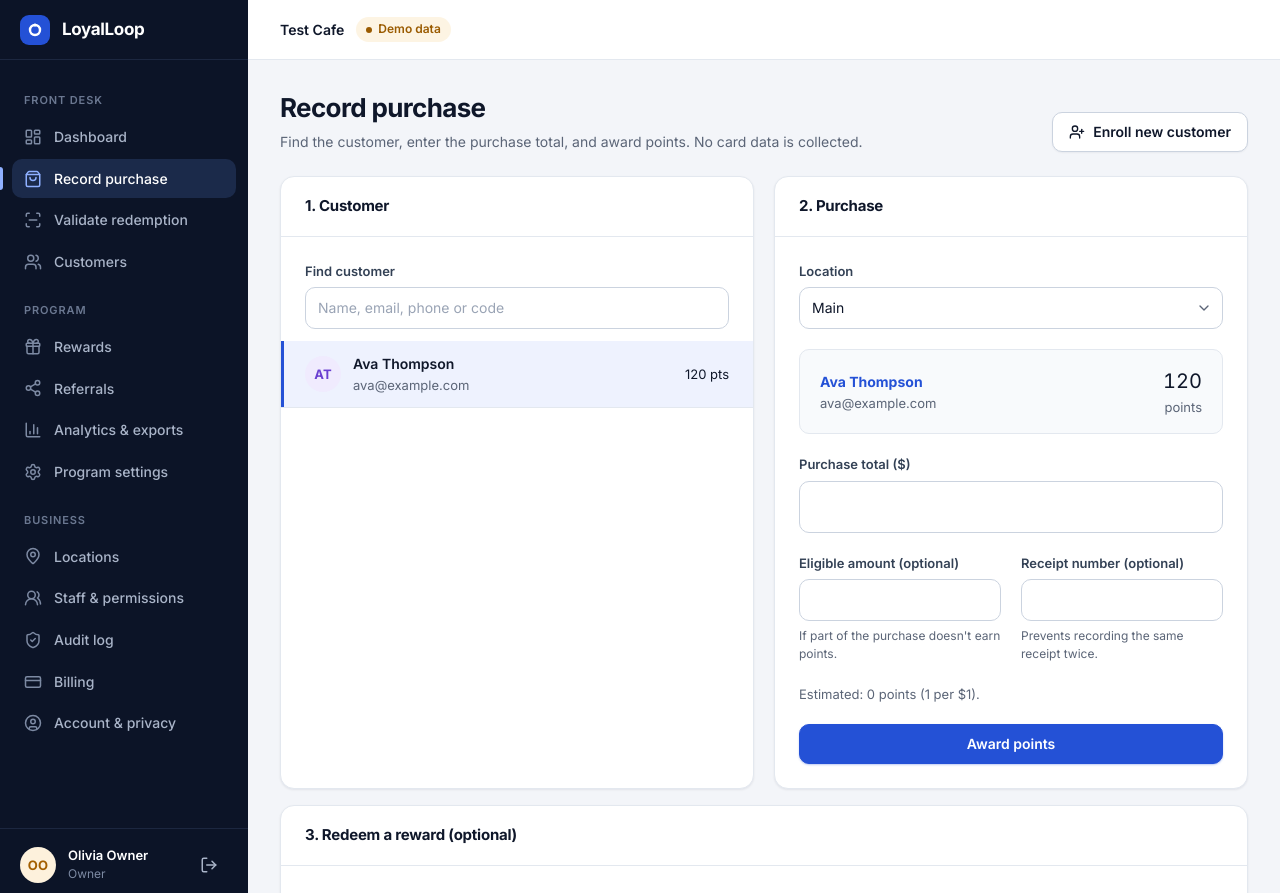
Test case: form validation feedback › purchase amount must be valid money
This screenshot has width=1280, height=893.
Type "12.345" into the field labelled "Purchase total ($)". click: (1011, 507)
box: left=799, top=481, right=1223, bottom=533
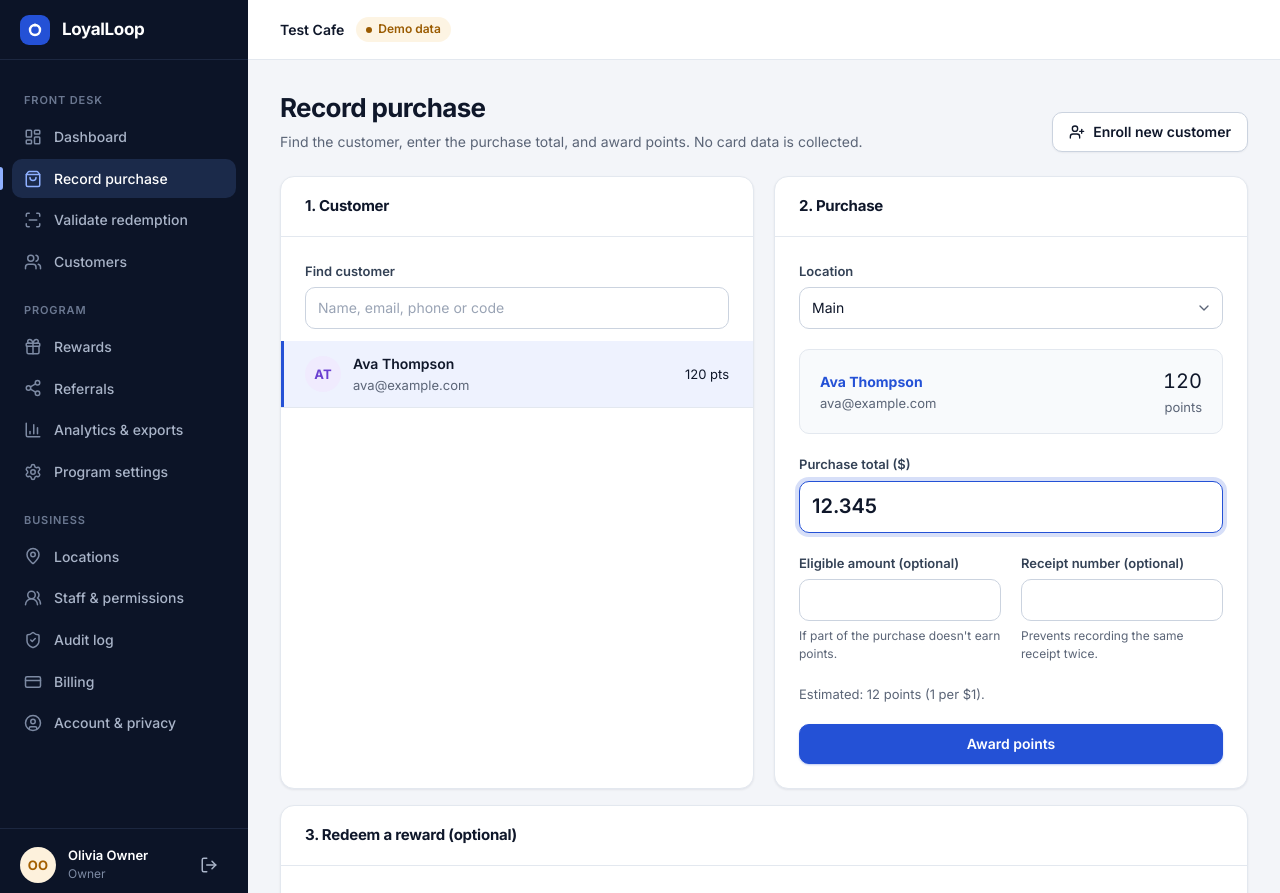
Click the button "Award points". click: (1011, 744)
box: left=799, top=724, right=1223, bottom=764
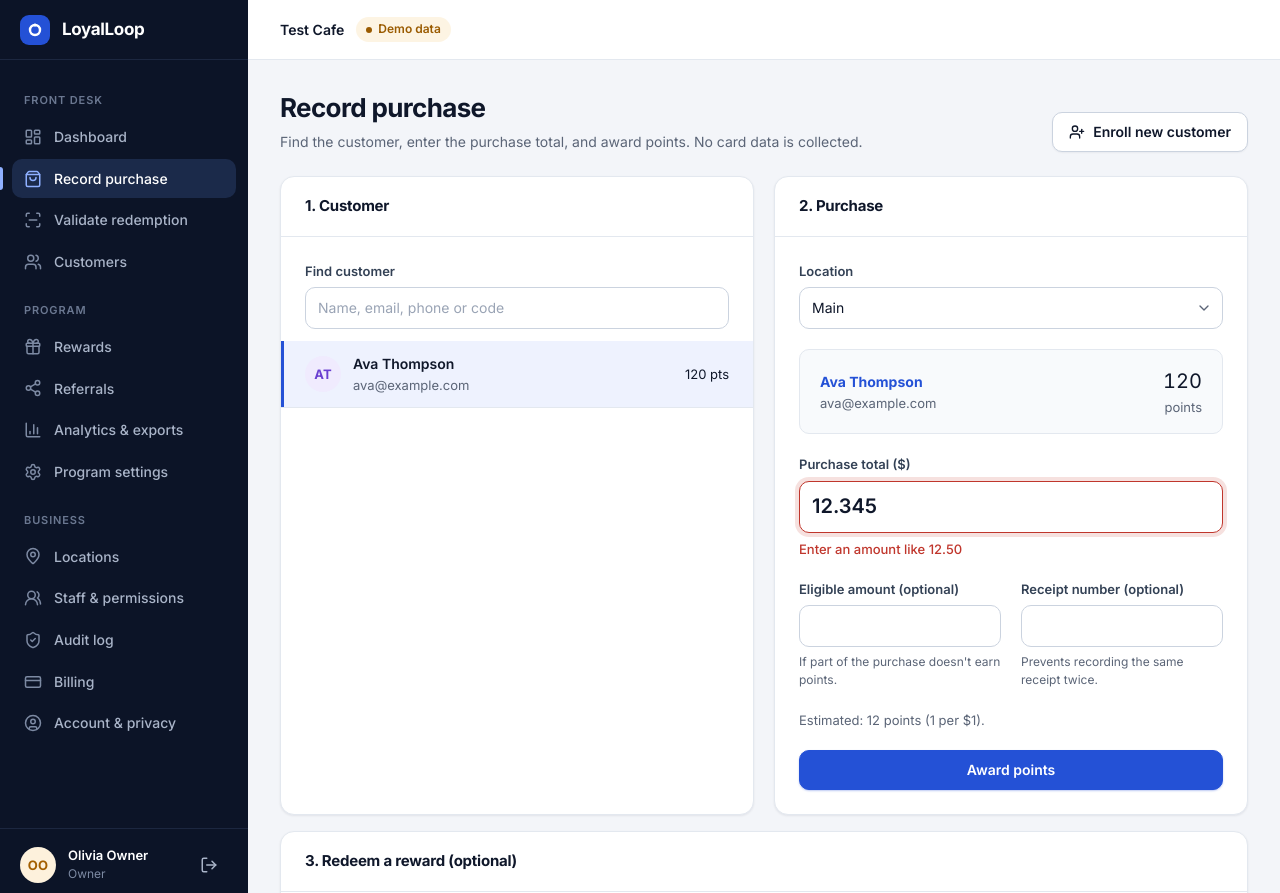
Expected: the text "Enter an amount like 12.50" is shown, left=799, top=541, right=962, bottom=557
